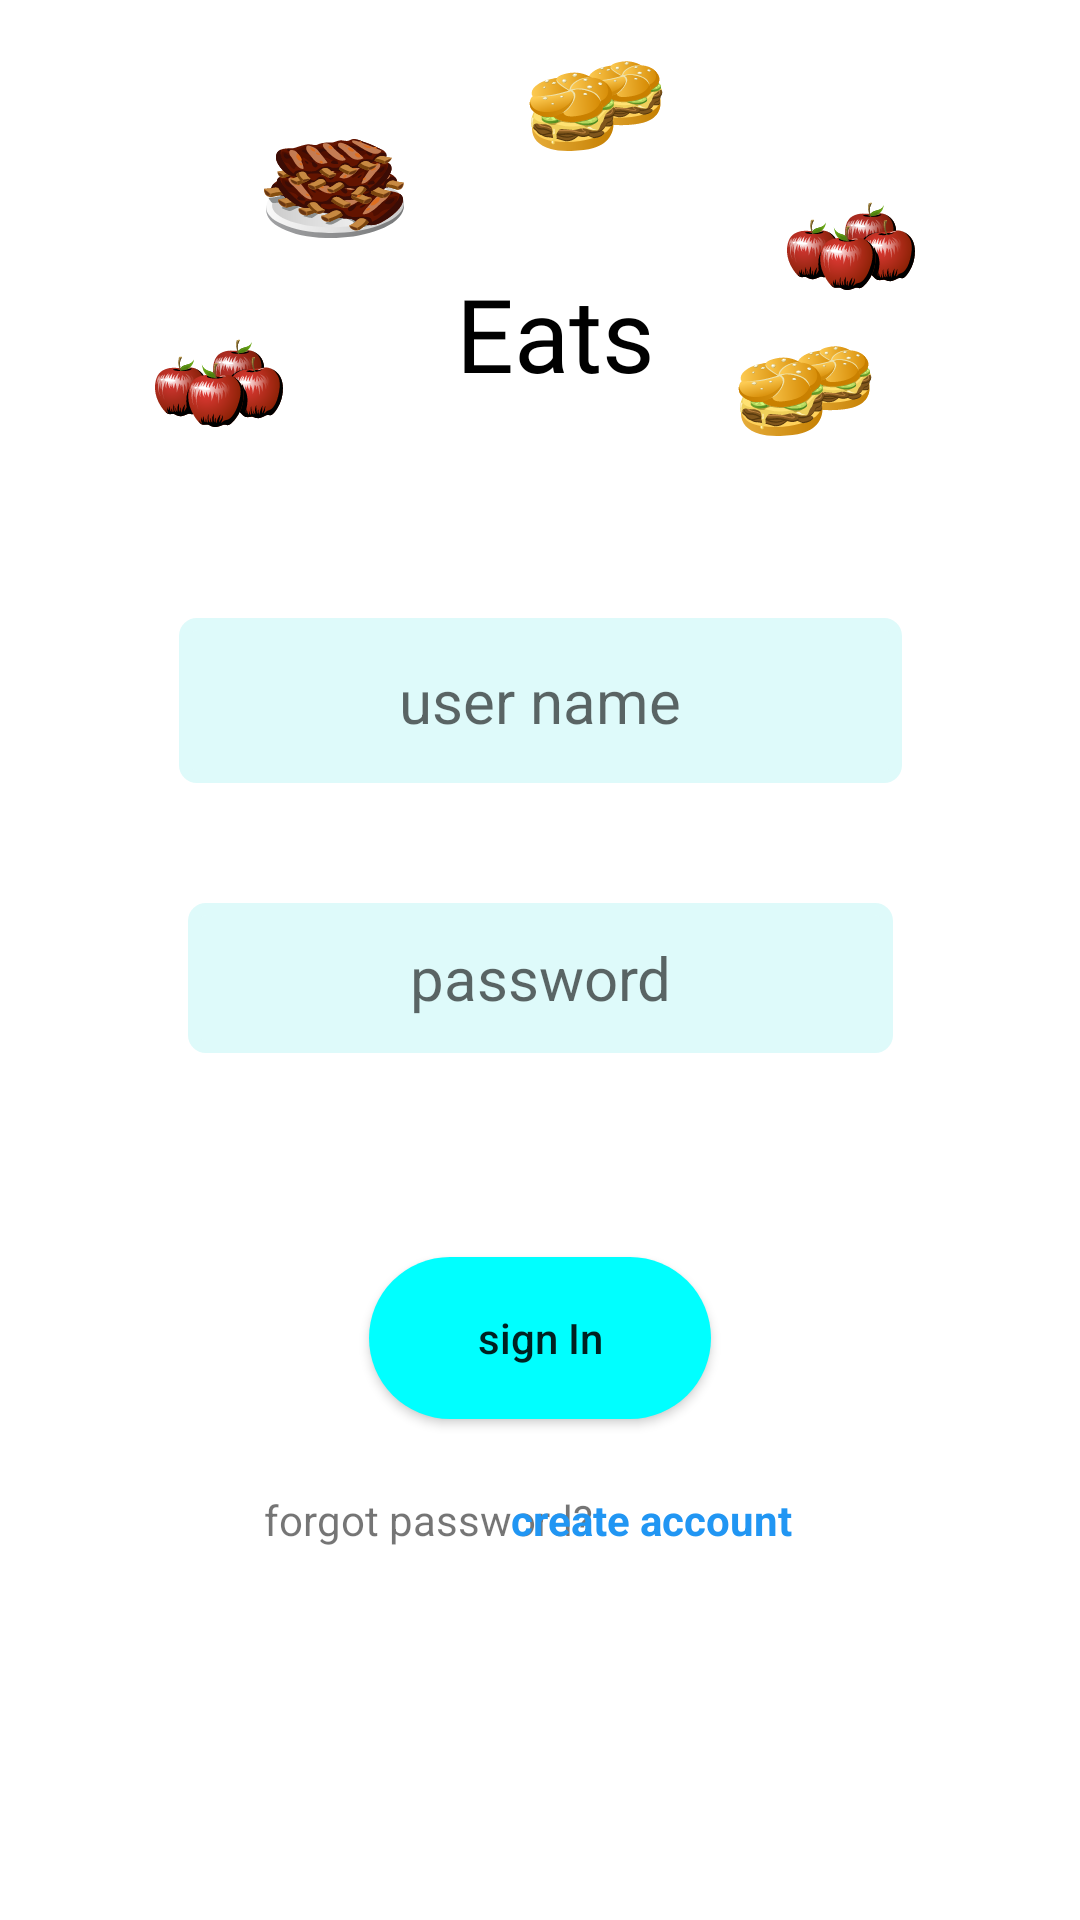

Named icons in this screenshot (1080px x 1920px) and their bounding boxes, box=[x1, y1, x2, y2]:
apples: box=[787, 202, 915, 290], box=[155, 339, 283, 427]
burgers: box=[529, 61, 663, 151], box=[738, 346, 872, 436]
spare ribs: box=[264, 139, 404, 238]
